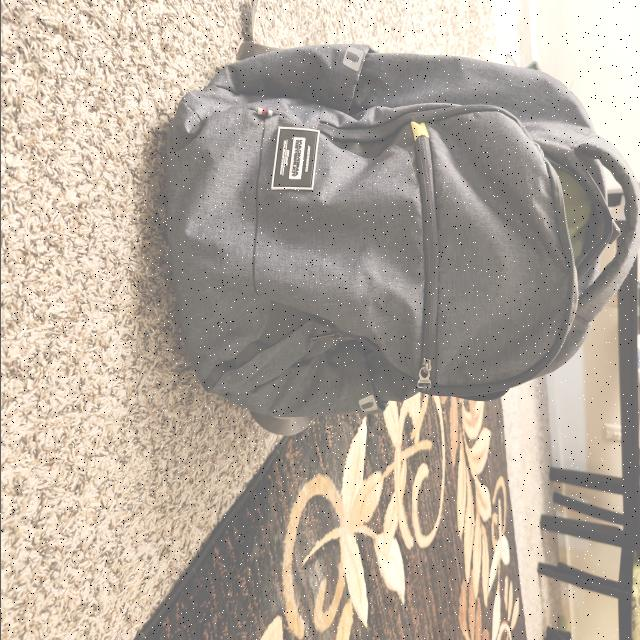bag: (170, 42, 628, 424)
